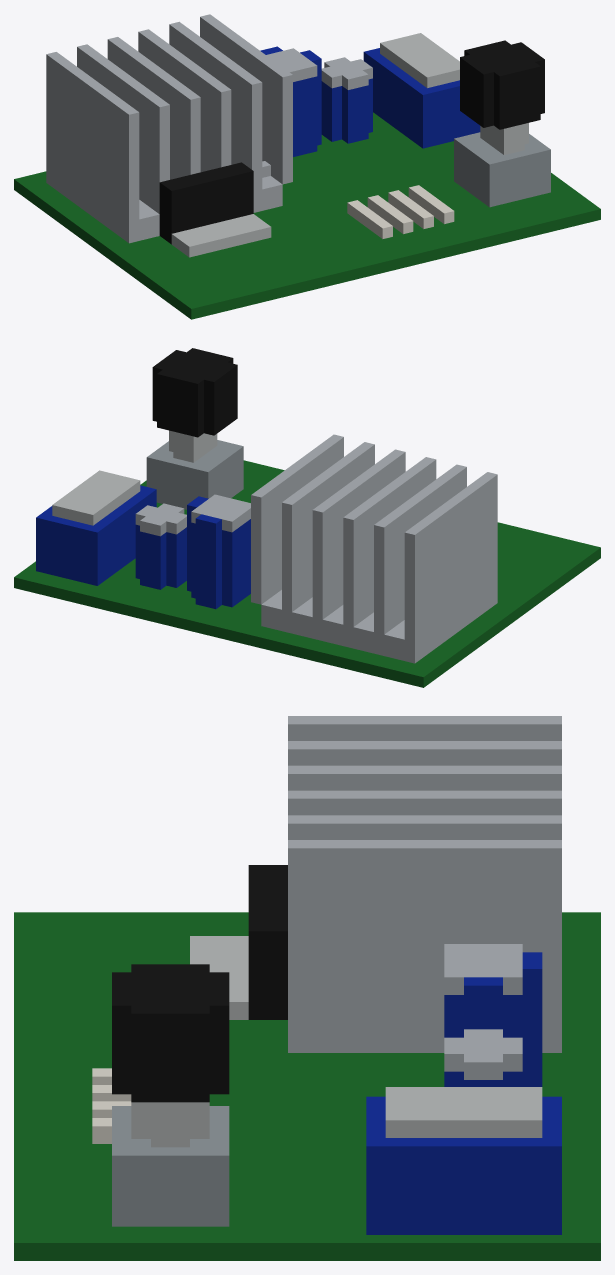
File: amplifier.glb
The picture shows the model from 3 angles, top to bottom: view 1: azimuth 30°, elevation 25°; view 2: azimuth 150°, elevation 25°; view 3: azimuth 270°, elevation 25°; orthographic projection. The views are drawn at different scales.
Visible parts, largest first — view 1: amplifier:compound; view 2: amplifier:compound; view 3: amplifier:compound.
Boxes of the visible parts, x1=… form: amplifier:compound: x1=14, y1=14, x2=600, y2=319; amplifier:compound: x1=14, y1=348, x2=600, y2=687; amplifier:compound: x1=14, y1=716, x2=600, y2=1260.
Size of the model in its own units: 0.08 by 0.026 by 0.06.
